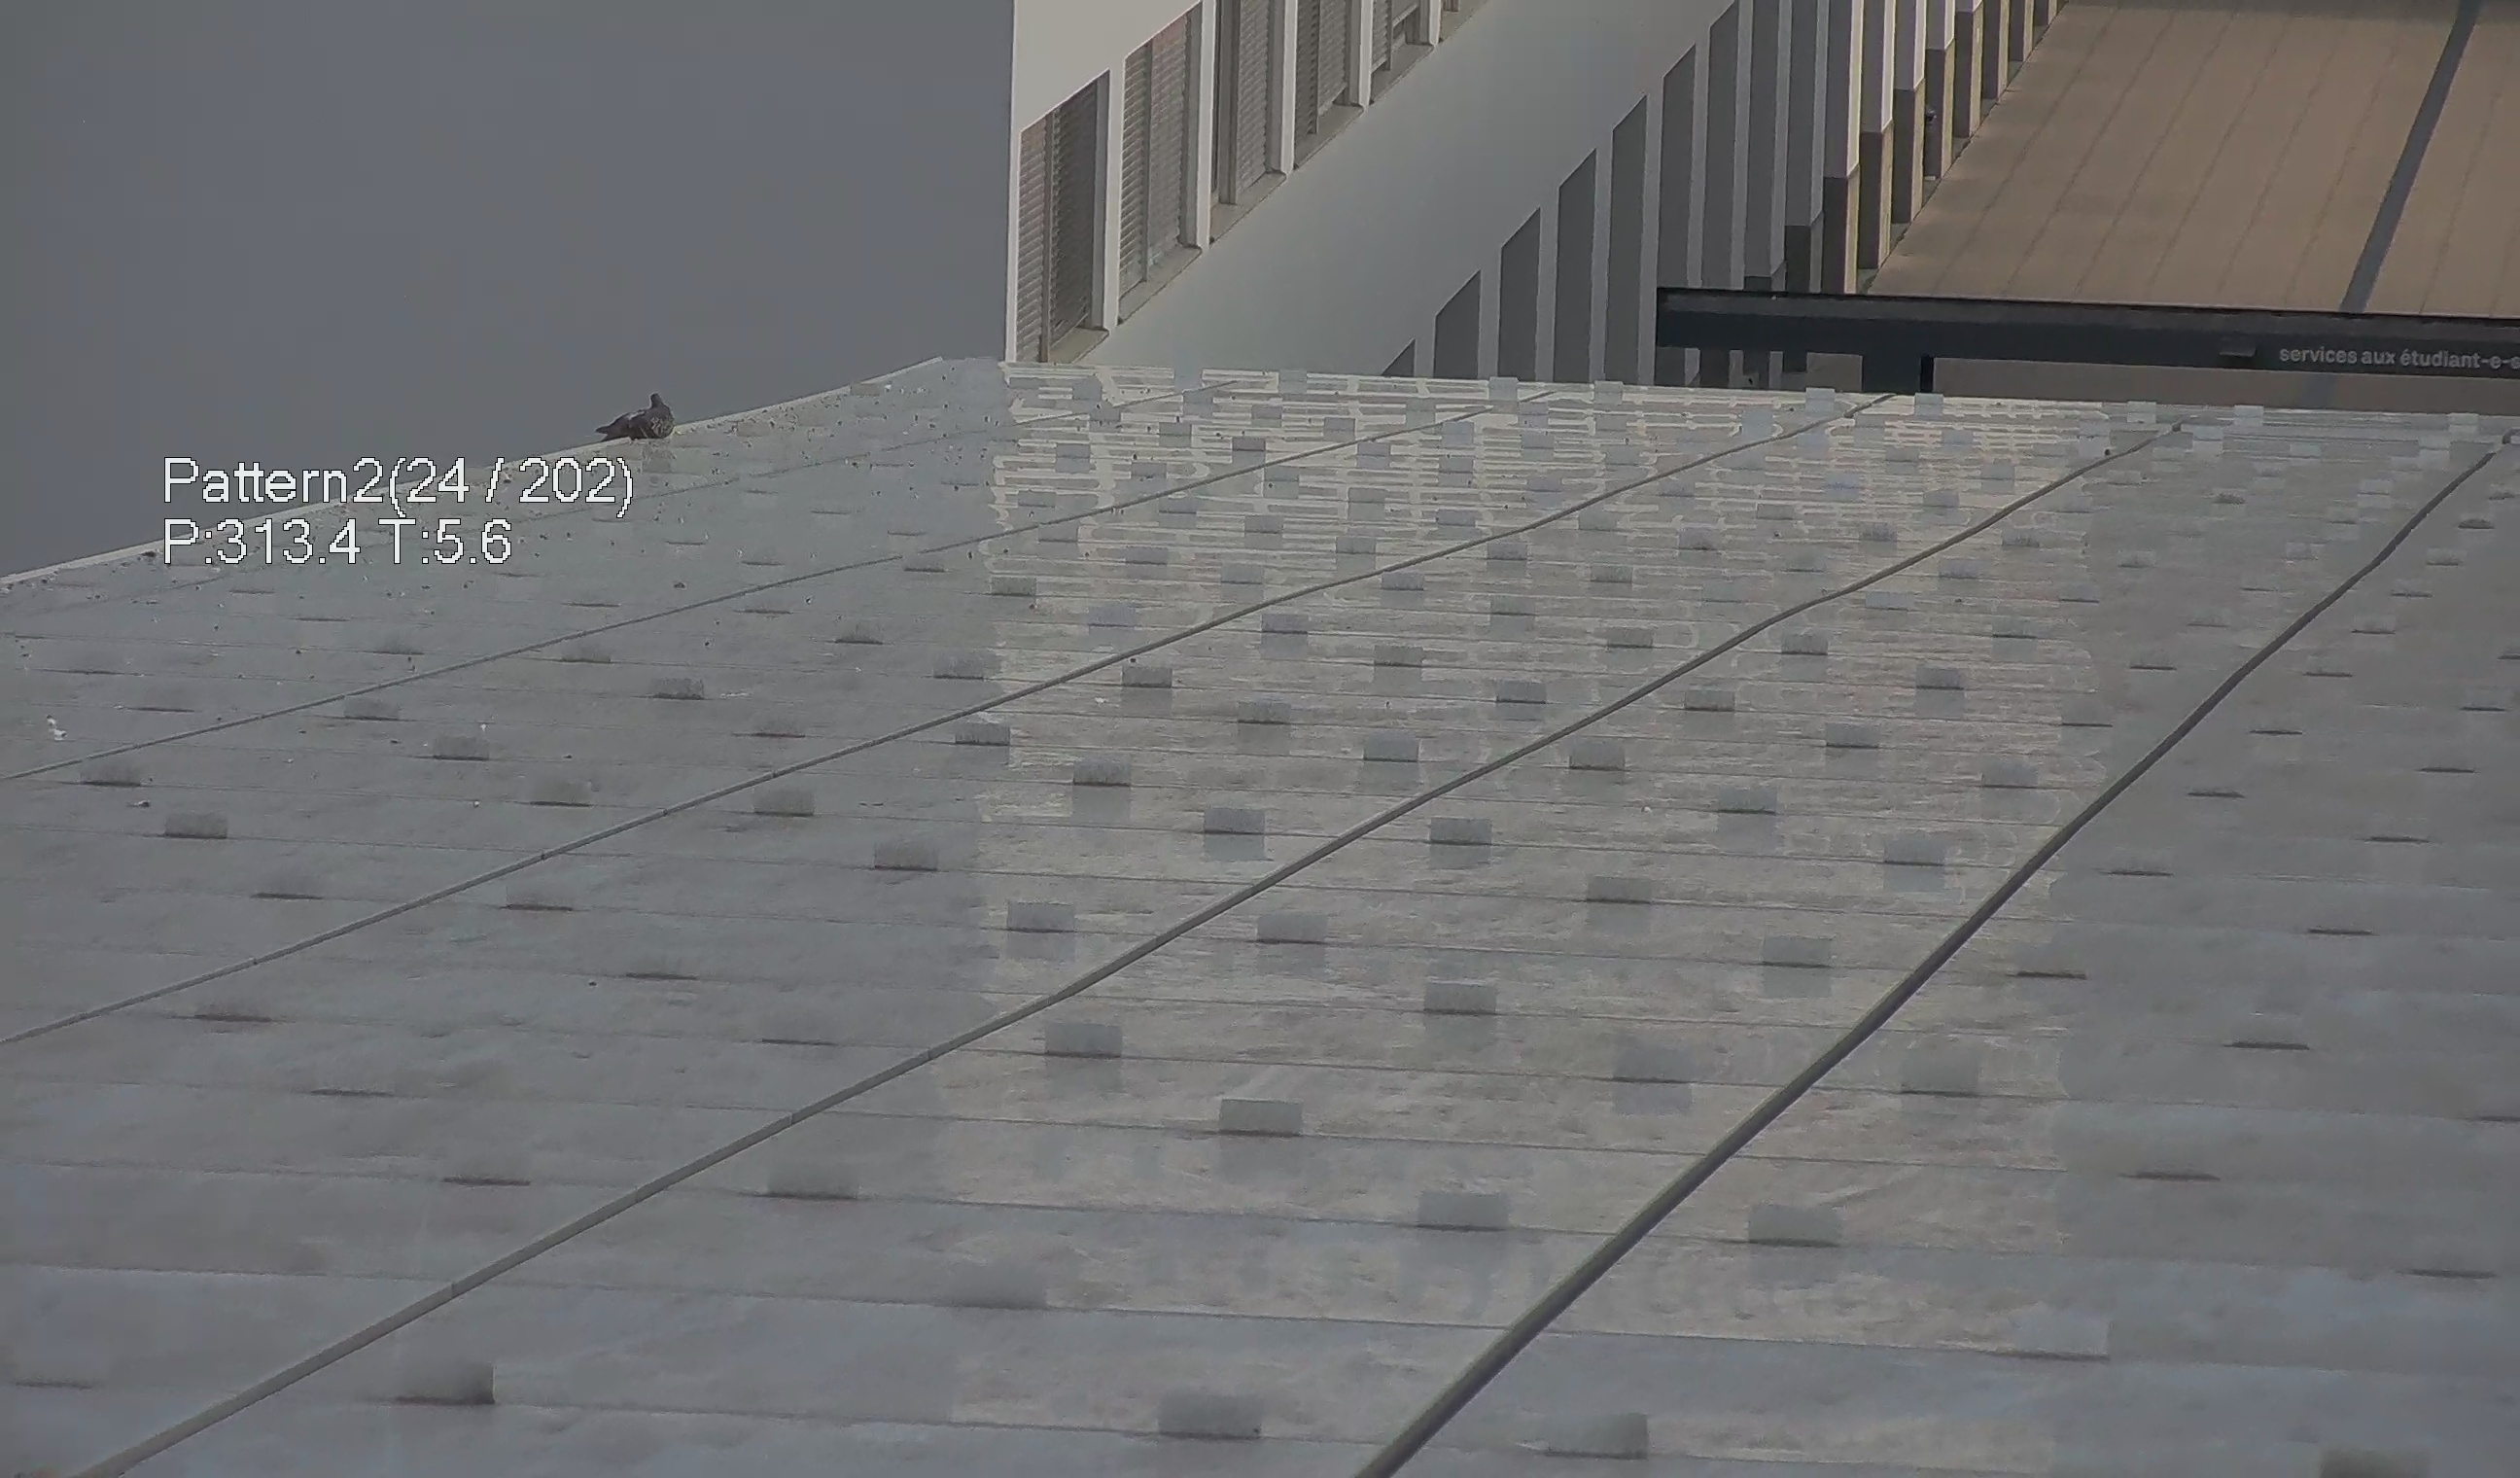Pigeon: (582, 377, 682, 445)
